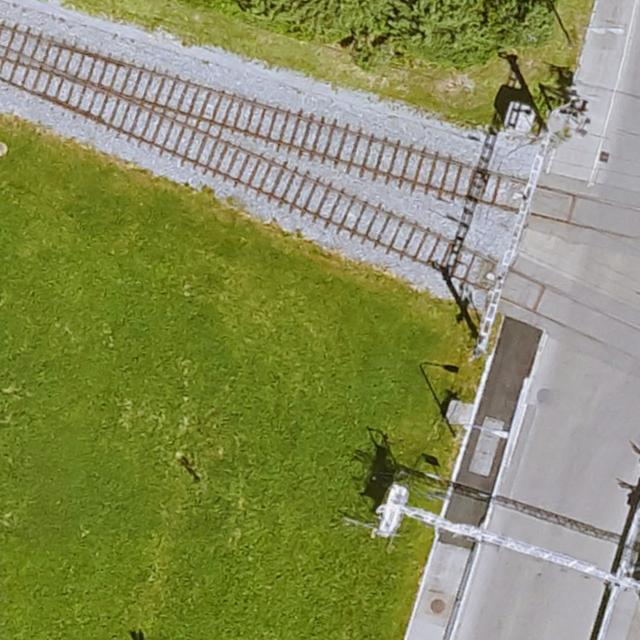tree: (387, 0, 489, 52), (495, 0, 552, 49)
